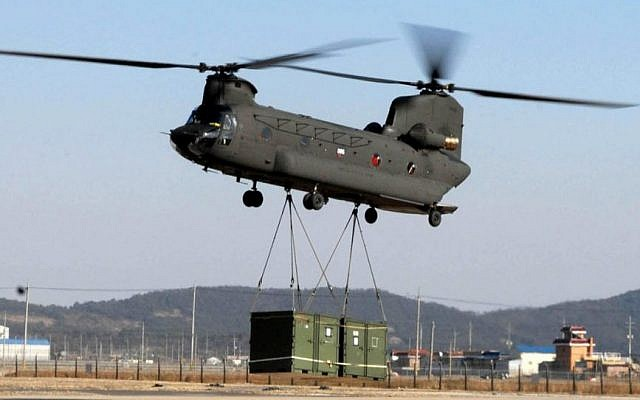MilitaryHelicopter: (176, 47, 509, 224)
